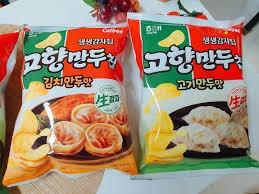snack: (2, 24, 139, 187), (126, 12, 259, 179)
